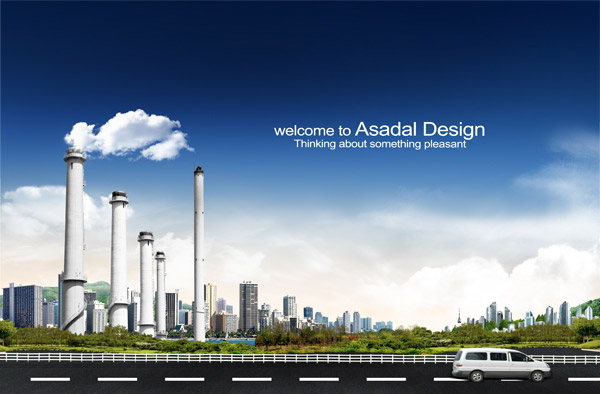dust: (60, 99, 189, 163)
